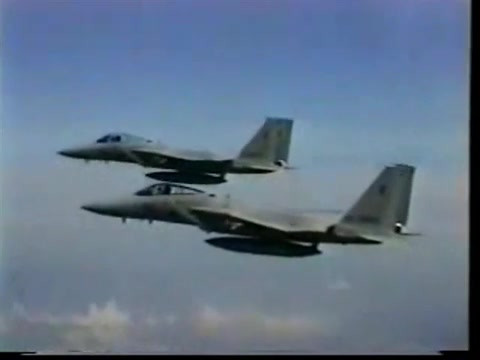aeroplane: (79, 165, 425, 259)
